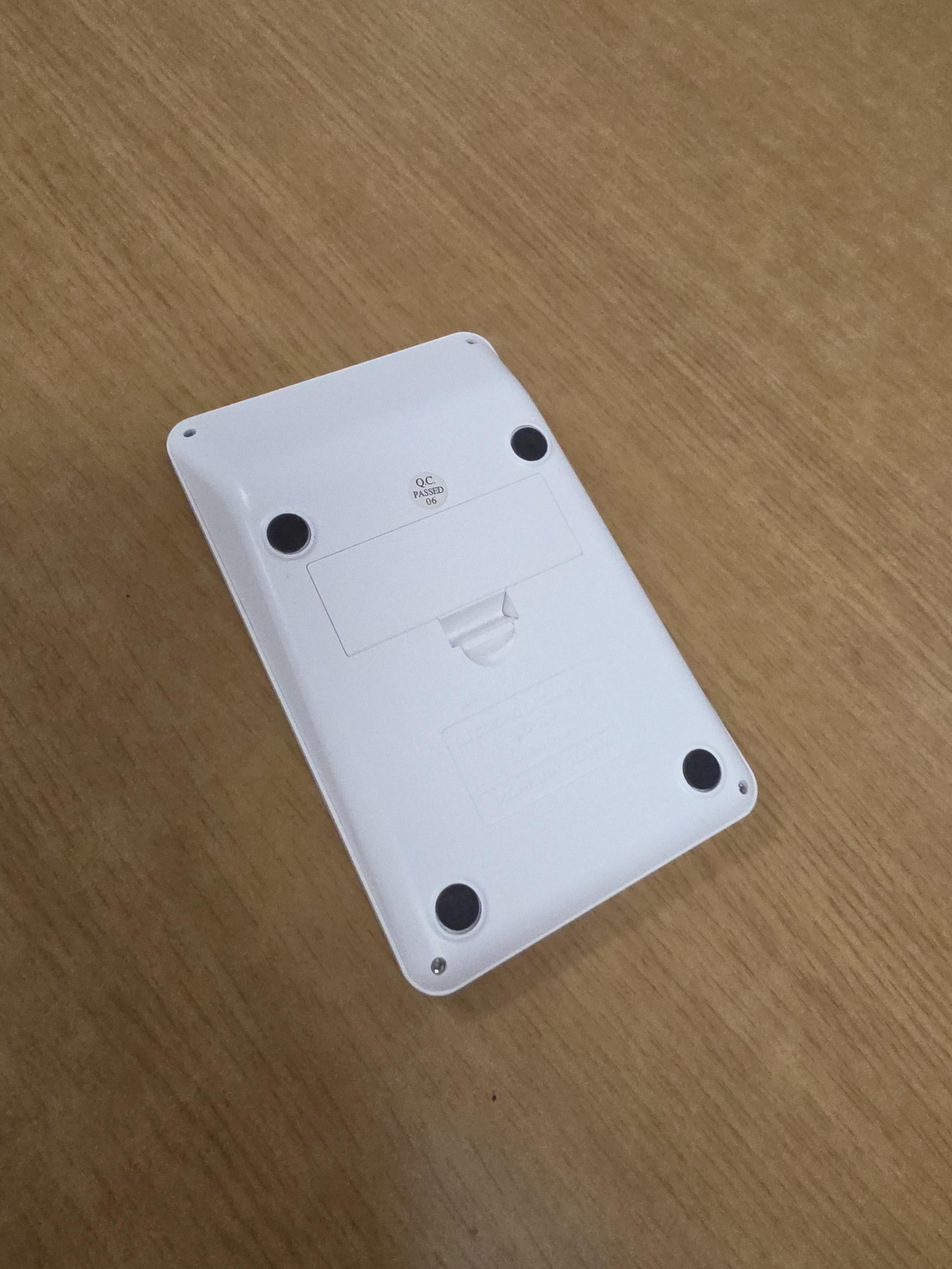calculator: (167, 331, 759, 998)
